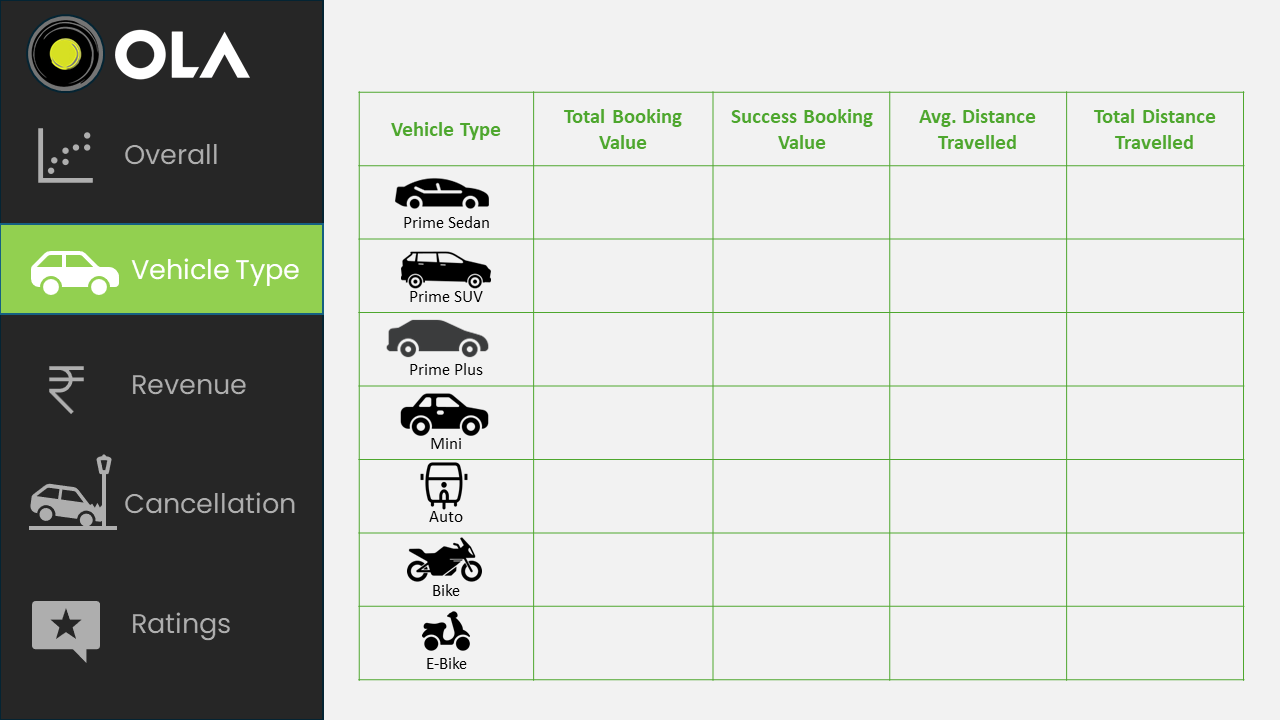

What the dashboard file says about the page in this screenshot:
{"tool":"powerbi","page":{"name":"VEHICLE TYPE","canvas":[1280,720],"ordinal":1},"visuals":[{"type":"actionButton","box":[0,336.2,323.9,92],"z":0},{"type":"actionButton","box":[0,337.5,323.8,92.5],"z":1000},{"type":"actionButton","box":[0,445.4,323.9,92],"z":2000},{"type":"actionButton","box":[0,580.4,323.9,92],"z":3000},{"type":"actionButton","box":[0,111.7,323.9,92],"z":4000},{"type":"card","fields":{"Values":["Sum(July.Booking_Value)"]},"box":[541.2,157.5,163.8,75],"z":5000},{"type":"card","fields":{"Values":["Sum(July.Booking_Value)"]},"box":[541.2,232.5,163.8,66.2],"z":6000},{"type":"card","fields":{"Values":["Sum(July.Booking_Value)"]},"box":[542.5,382.5,163.8,75],"z":7000},{"type":"card","fields":{"Values":["Sum(July.Booking_Value)"]},"box":[541.2,298.8,163.8,75],"z":8000},{"type":"card","fields":{"Values":["Sum(July.Booking_Value)"]},"box":[541.2,457.5,163.8,75],"z":9000},{"type":"card","fields":{"Values":["Sum(July.Booking_Value)"]},"box":[541.2,532.5,163.8,75],"z":10000},{"type":"card","fields":{"Values":["Sum(July.Booking_Value)"]},"box":[542.5,597.5,163.8,75],"z":11000},{"type":"card","fields":{"Values":["Sum(July.Booking_Value)"]},"box":[721.2,158.8,163.8,75],"z":12000},{"type":"card","fields":{"Values":["Sum(July.Booking_Value)"]},"box":[721.2,233.8,163.8,75],"z":13000},{"type":"card","fields":{"Values":["Sum(July.Booking_Value)"]},"box":[721.2,308.8,163.8,75],"z":14000},{"type":"card","fields":{"Values":["Sum(July.Booking_Value)"]},"box":[721.2,383.8,163.8,75],"z":15000},{"type":"card","fields":{"Values":["Sum(July.Booking_Value)"]},"box":[721.2,458.8,163.8,75],"z":16000},{"type":"card","fields":{"Values":["Sum(July.Booking_Value)"]},"box":[721.2,532.5,163.8,75],"z":17000},{"type":"card","fields":{"Values":["Sum(July.Booking_Value)"]},"box":[721.2,597.5,163.8,75],"z":18000},{"type":"card","fields":{"Values":["Avg(July.Ride_Distance)"]},"box":[898.8,158.8,163.8,75],"z":19000},{"type":"card","fields":{"Values":["Avg(July.Ride_Distance)"]},"box":[898.8,233.8,163.8,75],"z":20000},{"type":"card","fields":{"Values":["Avg(July.Ride_Distance)"]},"box":[898.8,308.8,163.8,75],"z":21000},{"type":"card","fields":{"Values":["Avg(July.Ride_Distance)"]},"box":[898.8,383.8,163.8,75],"z":22000},{"type":"card","fields":{"Values":["Avg(July.Ride_Distance)"]},"box":[898.8,457.5,163.8,75],"z":23000},{"type":"card","fields":{"Values":["Avg(July.Ride_Distance)"]},"box":[898.8,522.5,163.8,75],"z":24000},{"type":"card","fields":{"Values":["Avg(July.Ride_Distance)"]},"box":[898.8,597.5,163.8,75],"z":25000},{"type":"card","fields":{"Values":["Sum(July.Ride_Distance)"]},"box":[1075,158.8,163.8,75],"z":26000},{"type":"card","fields":{"Values":["Sum(July.Ride_Distance)"]},"box":[1075,233.8,163.8,75],"z":27000},{"type":"card","fields":{"Values":["Sum(July.Ride_Distance)"]},"box":[1075,307.5,163.8,75],"z":28000},{"type":"card","fields":{"Values":["Sum(July.Ride_Distance)"]},"box":[1075,383.8,163.8,75],"z":29000},{"type":"card","fields":{"Values":["Sum(July.Ride_Distance)"]},"box":[1075,453.8,163.8,75],"z":30000},{"type":"card","fields":{"Values":["Sum(July.Ride_Distance)"]},"box":[1075,528.8,163.8,75],"z":31000},{"type":"card","fields":{"Values":["Sum(July.Ride_Distance)"]},"box":[1075,597.5,163.8,75],"z":32000},{"type":"slicer","title":"Date","fields":{"Values":["July.Date"]},"box":[981.2,13.8,263.8,70],"z":33000}]}

Visuals, with their boxes on the page's 1280x720 design canvas (x1, y1, x2, y2). These are canvas units, not pixel positions in the 1280x720 screenshot, which may show the page scaled, cropped or inside an application window:
actionButton: 0,336,324,428
actionButton: 0,338,324,430
actionButton: 0,445,324,537
actionButton: 0,580,324,672
actionButton: 0,112,324,204
card - Sum(July.Booking_Value): 541,158,705,232
card - Sum(July.Booking_Value): 541,232,705,299
card - Sum(July.Booking_Value): 542,382,706,458
card - Sum(July.Booking_Value): 541,299,705,374
card - Sum(July.Booking_Value): 541,458,705,532
card - Sum(July.Booking_Value): 541,532,705,608
card - Sum(July.Booking_Value): 542,598,706,672
card - Sum(July.Booking_Value): 721,159,885,234
card - Sum(July.Booking_Value): 721,234,885,309
card - Sum(July.Booking_Value): 721,309,885,384
card - Sum(July.Booking_Value): 721,384,885,459
card - Sum(July.Booking_Value): 721,459,885,534
card - Sum(July.Booking_Value): 721,532,885,608
card - Sum(July.Booking_Value): 721,598,885,672
card - Avg(July.Ride_Distance): 899,159,1063,234
card - Avg(July.Ride_Distance): 899,234,1063,309
card - Avg(July.Ride_Distance): 899,309,1063,384
card - Avg(July.Ride_Distance): 899,384,1063,459
card - Avg(July.Ride_Distance): 899,458,1063,532
card - Avg(July.Ride_Distance): 899,522,1063,598
card - Avg(July.Ride_Distance): 899,598,1063,672
card - Sum(July.Ride_Distance): 1075,159,1239,234
card - Sum(July.Ride_Distance): 1075,234,1239,309
card - Sum(July.Ride_Distance): 1075,308,1239,382
card - Sum(July.Ride_Distance): 1075,384,1239,459
card - Sum(July.Ride_Distance): 1075,454,1239,529
card - Sum(July.Ride_Distance): 1075,529,1239,604
card - Sum(July.Ride_Distance): 1075,598,1239,672
"Date" slicer: 981,14,1245,84
